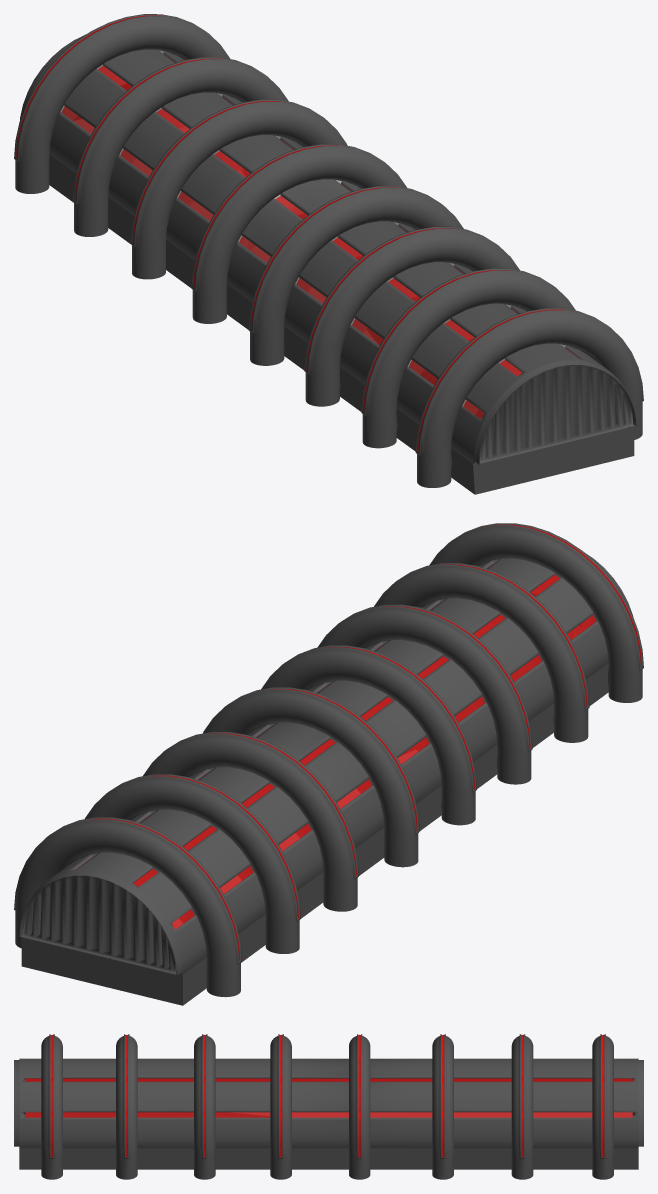
File: future2_coiledGenerator.fbx
3 views of the same model, one above another, from view 1: azimuth 30°, elevation 25°; view 2: azimuth 150°, elevation 25°; view 3: azimuth 270°, elevation 25° (orthographic). The views are drawn at different scales.
Parts seen in each view (by area): view 1: future2_coiledGenerator; view 2: future2_coiledGenerator; view 3: future2_coiledGenerator.
Part boxes in pixels (x1,y1,x2,y2): future2_coiledGenerator: (14,14,643,494); future2_coiledGenerator: (14,523,643,1005); future2_coiledGenerator: (14,1034,643,1179).
Bounding box in the file's own units: 24.56 × 15.21 × 86.82.
